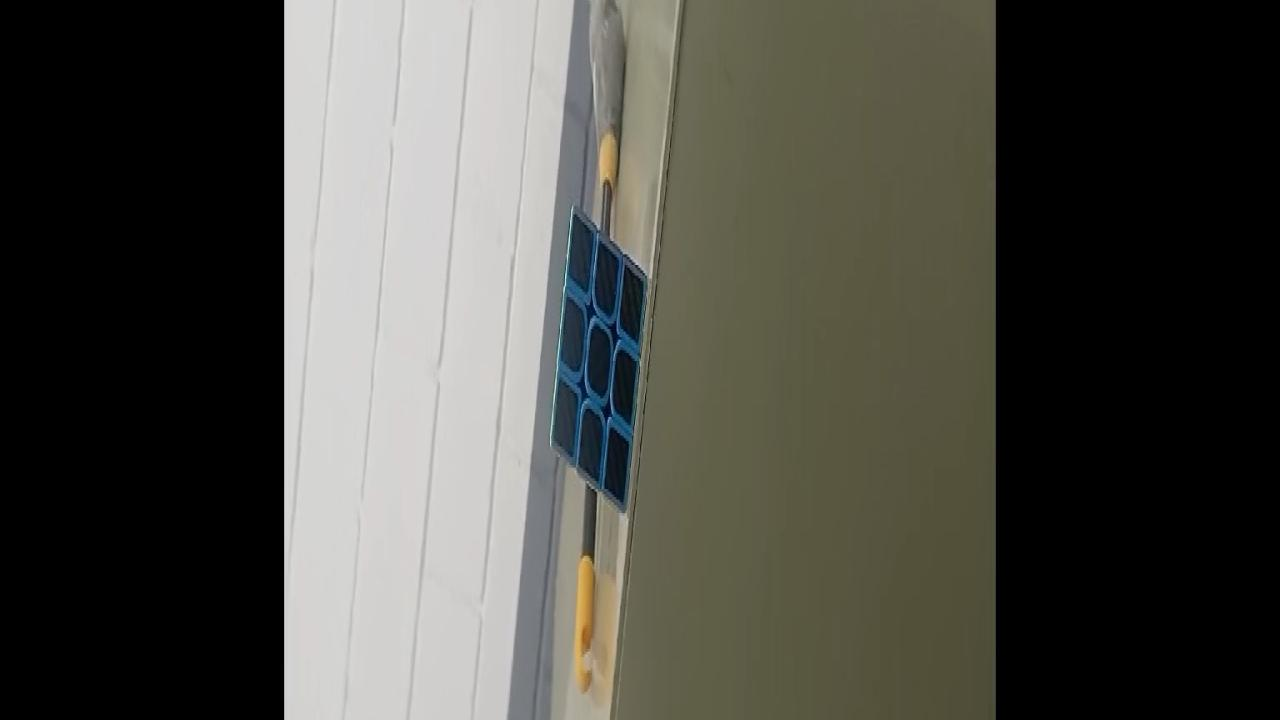Cube: (548, 202, 650, 520)
